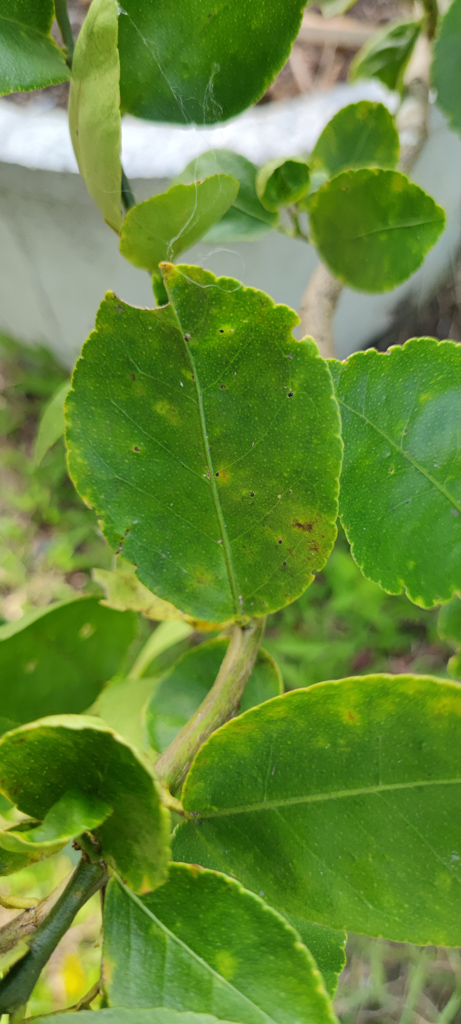Canker: (267, 511, 325, 568), (331, 699, 373, 730), (428, 695, 460, 712)
